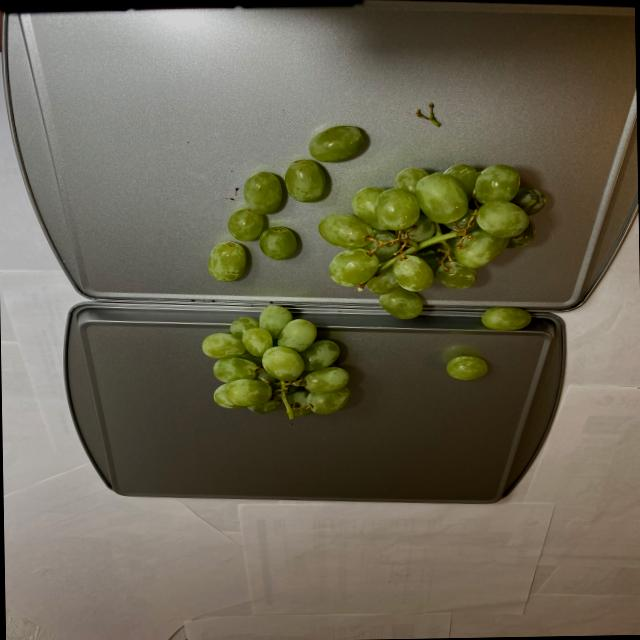grapes: (198, 121, 554, 418)
